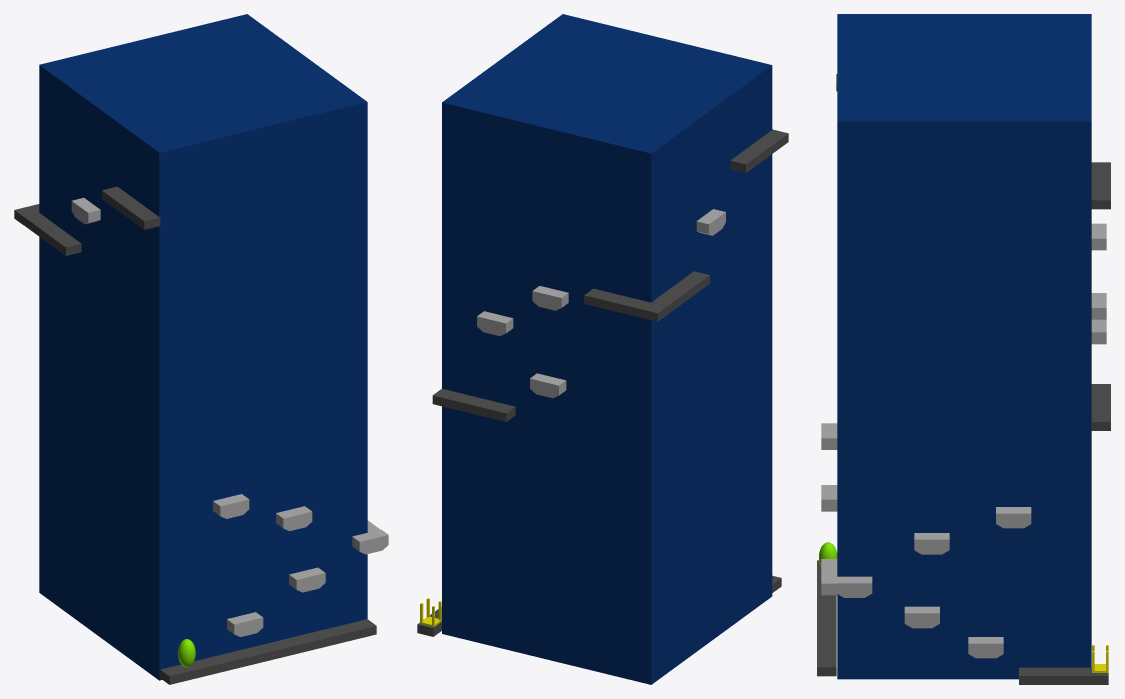
Rendered from 3rd Stage_TEST.fbx.
3 renders of one model, left to right at view 1: azimuth 30°, elevation 25°; view 2: azimuth 150°, elevation 25°; view 3: azimuth 270°, elevation 25°, orthographic. The views are drawn at different scales.
Visible parts, largest first — view 1: rd_Stage_TEST:Building_Center, rd_Stage_TEST:Ground1, rd_Stage_TEST:Ground6, rd_Stage_TEST:Ground5, rd_Stage_TEST:FlyingPlatform2, rd_Stage_TEST:FlyingPlatform3, rd_Stage_TEST:FlyingPlatform1, rd_Stage_TEST:FlyingPlatform4, rd_Stage_TEST:FlyingPlatform5, rd_Stage_TEST:FlyingPlatform14; view 2: rd_Stage_TEST:Building_Center, rd_Stage_TEST:Ground3, rd_Stage_TEST:Ground4, rd_Stage_TEST:Ground6, rd_Stage_TEST:Ground5, rd_Stage_TEST:FlyingPlatform12, rd_Stage_TEST:FlyingPlatform11, rd_Stage_TEST:FlyingPlatform13, rd_Stage_TEST:FlyingPlatform14; view 3: rd_Stage_TEST:Building_Center, rd_Stage_TEST:Ground1, rd_Stage_TEST:Ground2, rd_Stage_TEST:Ground4, rd_Stage_TEST:Ground3, rd_Stage_TEST:FlyingPlatform7, rd_Stage_TEST:FlyingPlatform6, rd_Stage_TEST:FlyingPlatform9, rd_Stage_TEST:FlyingPlatform8, rd_Stage_TEST:FlyingPlatform10, rd_Stage_TEST:FlyingPlatform3, rd_Stage_TEST:FlyingPlatform4 (+1 smaller).
Boxes of the visible parts, left/top/right/bottom form: rd_Stage_TEST:Building_Center: left=39, top=14, right=367, bottom=680; rd_Stage_TEST:Ground1: left=160, top=619, right=376, bottom=684; rd_Stage_TEST:Ground6: left=102, top=186, right=160, bottom=229; rd_Stage_TEST:Ground5: left=23, top=213, right=81, bottom=255; rd_Stage_TEST:FlyingPlatform2: left=289, top=567, right=325, bottom=592; rd_Stage_TEST:FlyingPlatform3: left=352, top=529, right=388, bottom=554; rd_Stage_TEST:FlyingPlatform1: left=227, top=612, right=263, bottom=636; rd_Stage_TEST:FlyingPlatform4: left=276, top=506, right=312, bottom=531; rd_Stage_TEST:FlyingPlatform5: left=213, top=494, right=249, bottom=518; rd_Stage_TEST:FlyingPlatform14: left=71, top=197, right=100, bottom=224; rd_Stage_TEST:Building_Center: left=442, top=14, right=772, bottom=684; rd_Stage_TEST:Ground3: left=432, top=389, right=515, bottom=421; rd_Stage_TEST:Ground4: left=584, top=288, right=667, bottom=321; rd_Stage_TEST:Ground6: left=730, top=129, right=788, bottom=172; rd_Stage_TEST:Ground5: left=651, top=271, right=709, bottom=314; rd_Stage_TEST:FlyingPlatform12: left=477, top=311, right=513, bottom=335; rd_Stage_TEST:FlyingPlatform11: left=530, top=373, right=566, bottom=398; rd_Stage_TEST:FlyingPlatform13: left=532, top=286, right=568, bottom=310; rd_Stage_TEST:FlyingPlatform14: left=696, top=209, right=725, bottom=235; rd_Stage_TEST:Building_Center: left=837, top=14, right=1091, bottom=679; rd_Stage_TEST:Ground1: left=817, top=560, right=836, bottom=676; rd_Stage_TEST:Ground2: left=1019, top=667, right=1108, bottom=684; rd_Stage_TEST:Ground4: left=1091, top=162, right=1110, bottom=209; rd_Stage_TEST:Ground3: left=1091, top=384, right=1110, bottom=430; rd_Stage_TEST:FlyingPlatform7: left=904, top=606, right=939, bottom=628; rd_Stage_TEST:FlyingPlatform6: left=836, top=576, right=872, bottom=597; rd_Stage_TEST:FlyingPlatform9: left=914, top=533, right=949, bottom=554; rd_Stage_TEST:FlyingPlatform8: left=968, top=637, right=1003, bottom=658; rd_Stage_TEST:FlyingPlatform10: left=996, top=507, right=1031, bottom=528; rd_Stage_TEST:FlyingPlatform3: left=821, top=568, right=837, bottom=595; rd_Stage_TEST:FlyingPlatform4: left=821, top=485, right=837, bottom=511.
Size of the model in its own units: 14.96 by 31.4 by 14.99.
